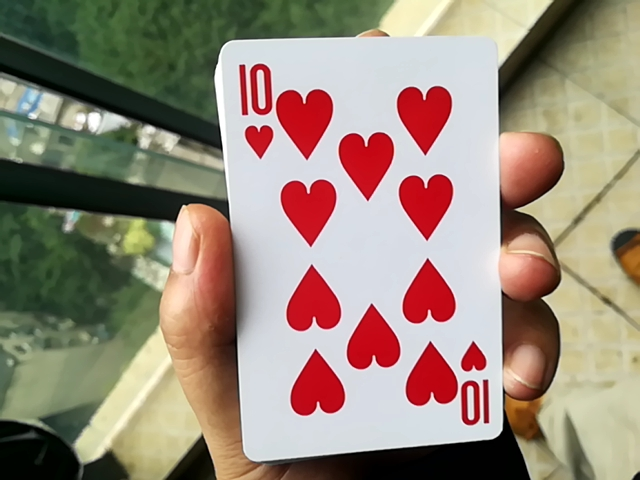hx 10: (216, 18, 497, 452)
